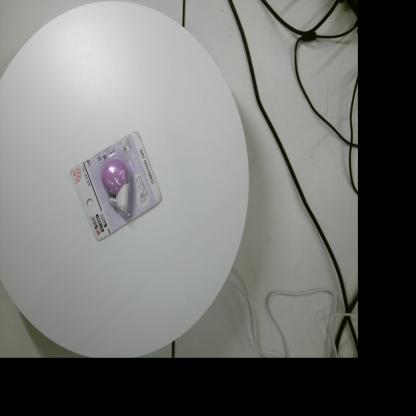Stationery: (71, 131, 162, 241)
